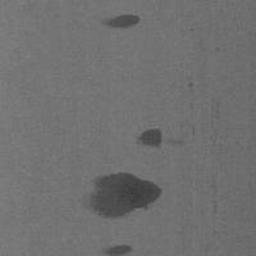Oil spot: (78, 172, 164, 221), (134, 128, 187, 151), (100, 13, 142, 29), (100, 243, 136, 256)
